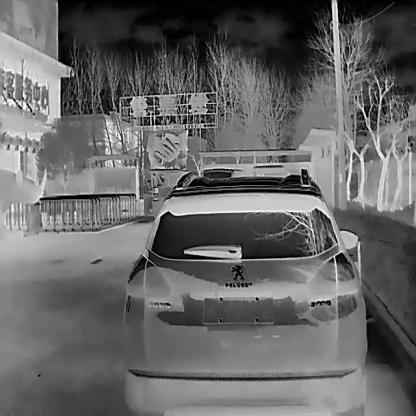bus: (150, 166, 186, 217), (203, 166, 245, 178), (251, 162, 287, 174)
car: (119, 168, 368, 416)
